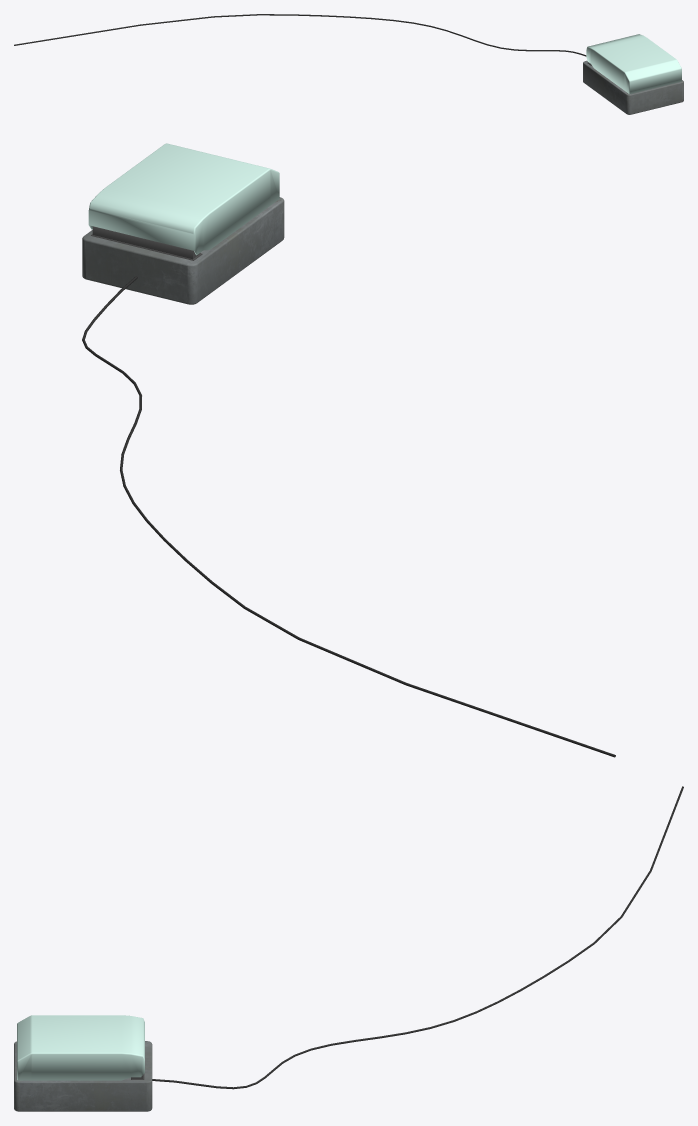
The model's file is button.fbx.
3 renders of one model, top to bottom at view 1: azimuth 30°, elevation 25°; view 2: azimuth 150°, elevation 25°; view 3: azimuth 270°, elevation 25°, orthographic. The views are drawn at different scales.
Parts seen in each view (by area): view 1: glass, base; view 2: glass, base; view 3: glass, base.
Boxes of the visible parts, <box> form: glass: <box>586,34,681,94</box>; base: <box>14,14,683,114</box>; glass: <box>88,143,279,255</box>; base: <box>82,197,615,757</box>; glass: <box>17,1015,144,1080</box>; base: <box>14,786,683,1111</box>.
Bounding box in the file's own units: 2.54 × 0.2099 × 2.22.
